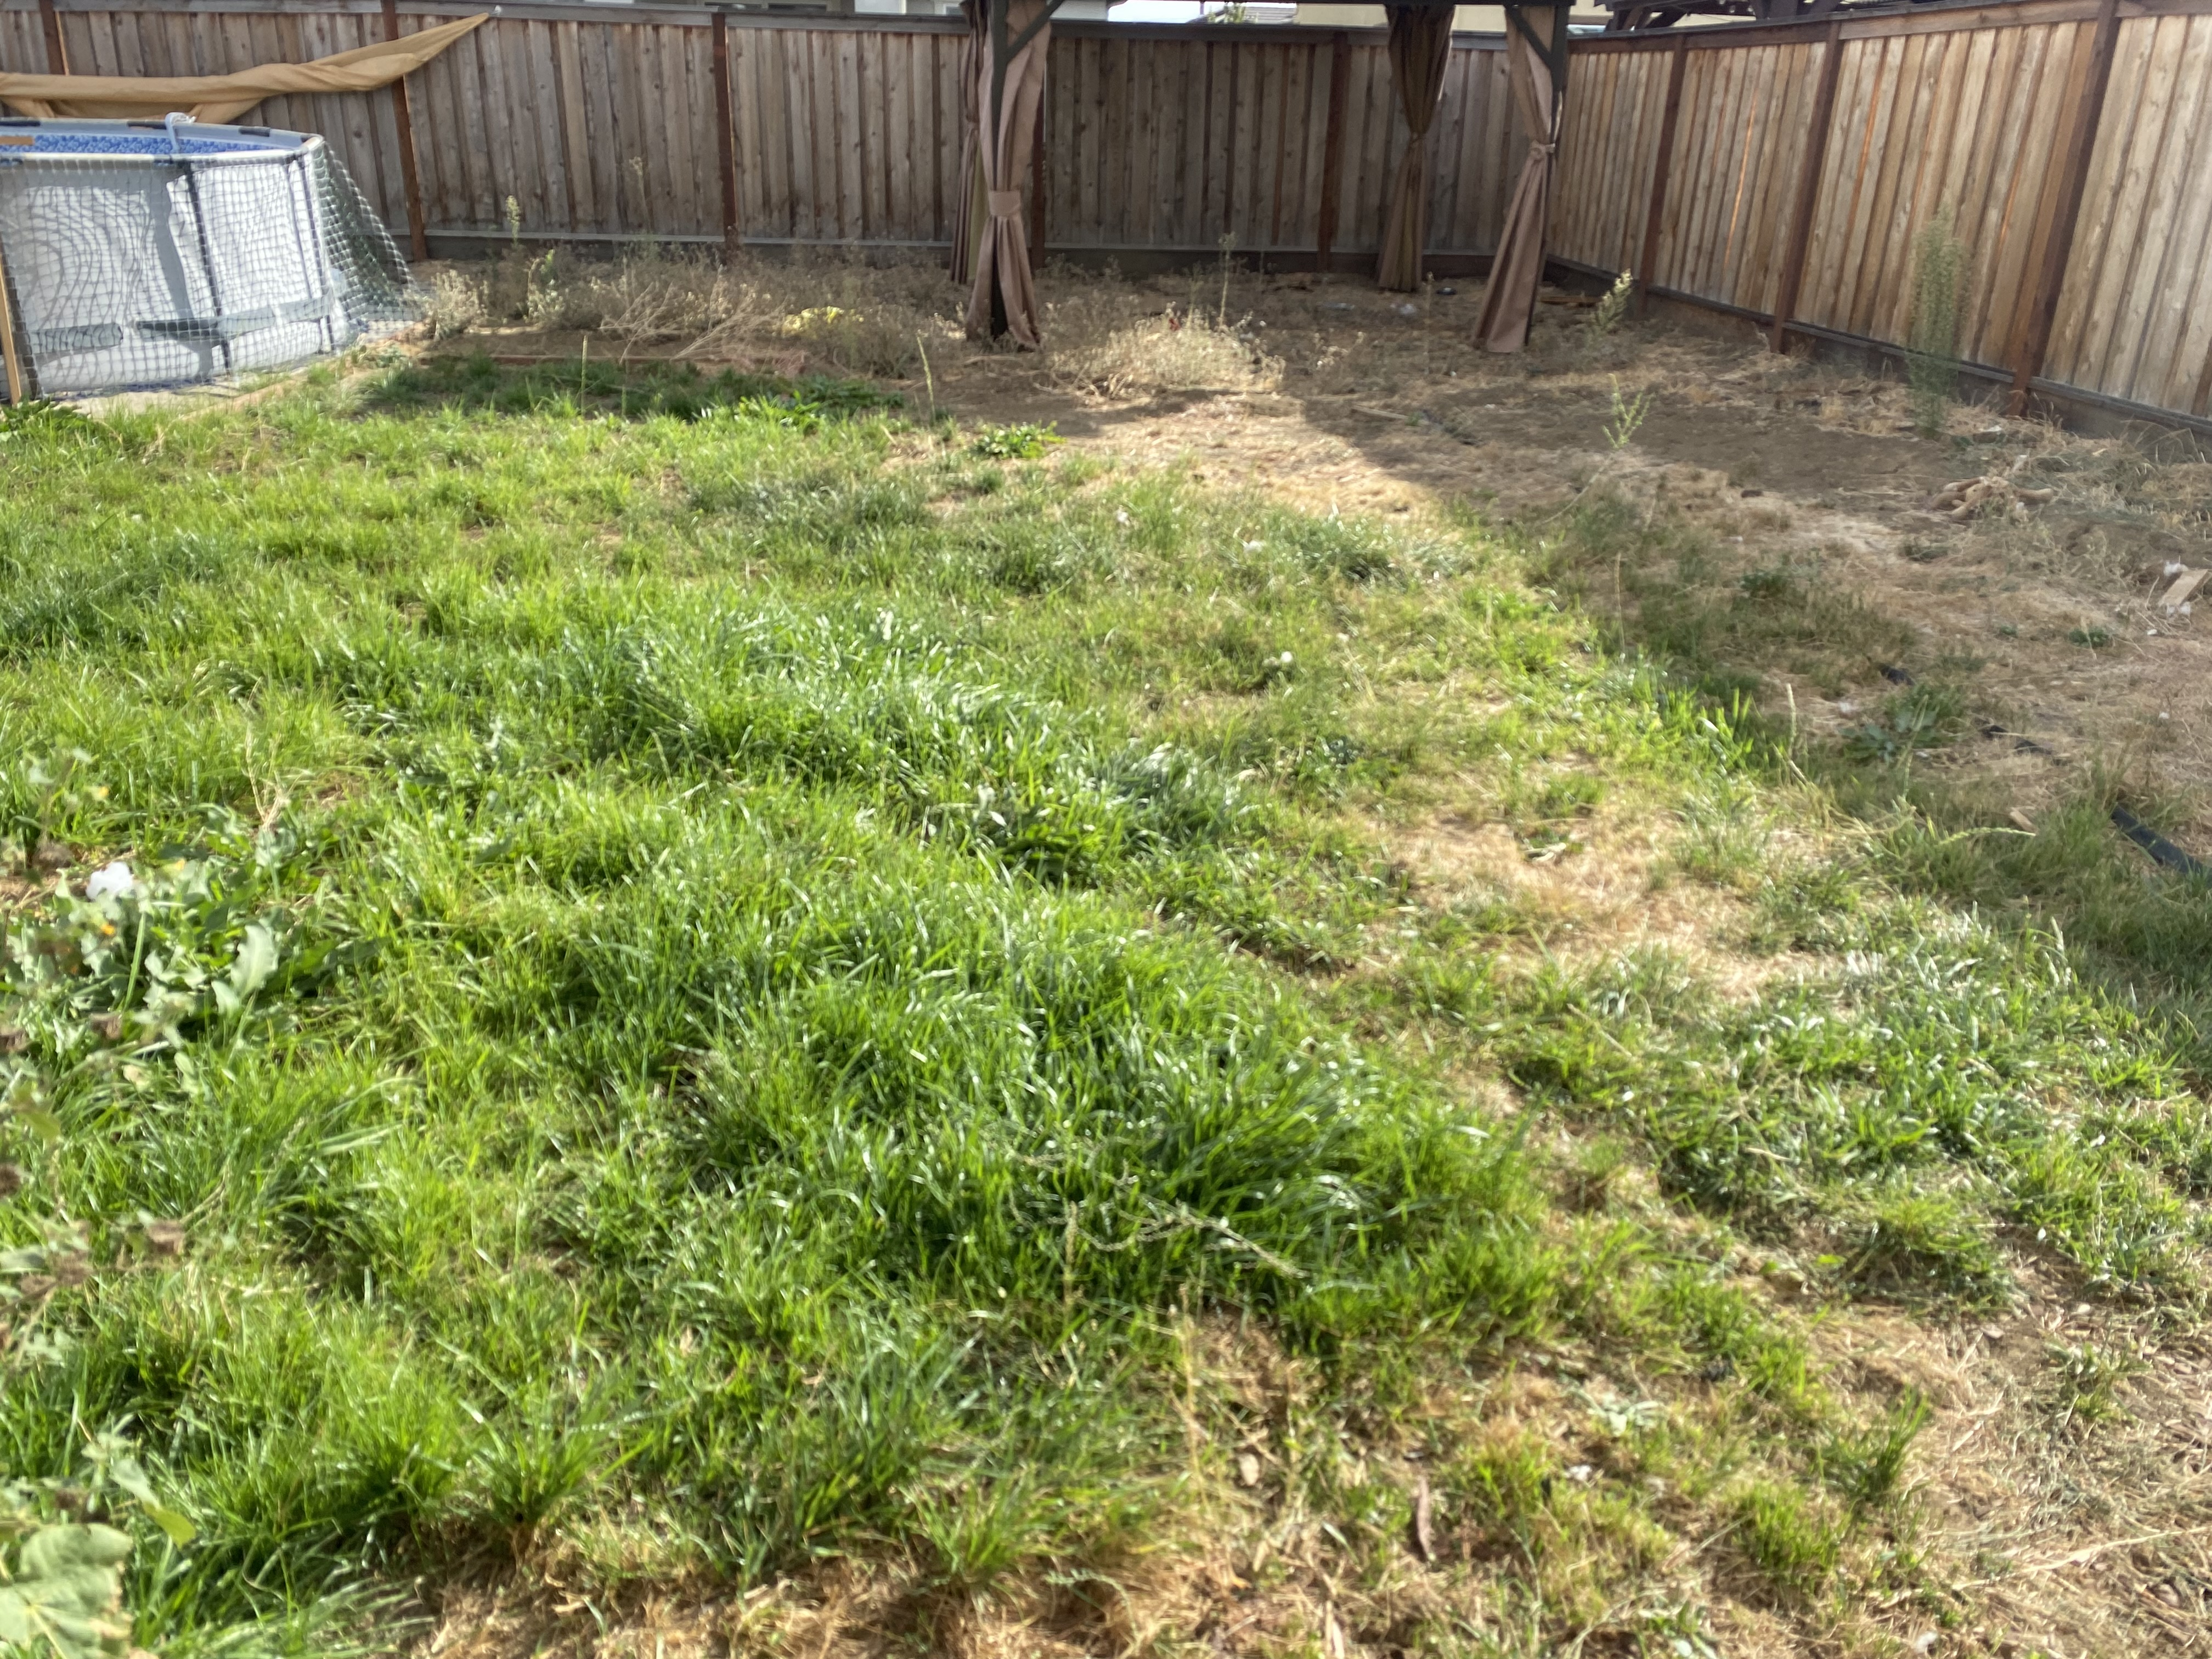weed: (51, 854, 289, 1075)
